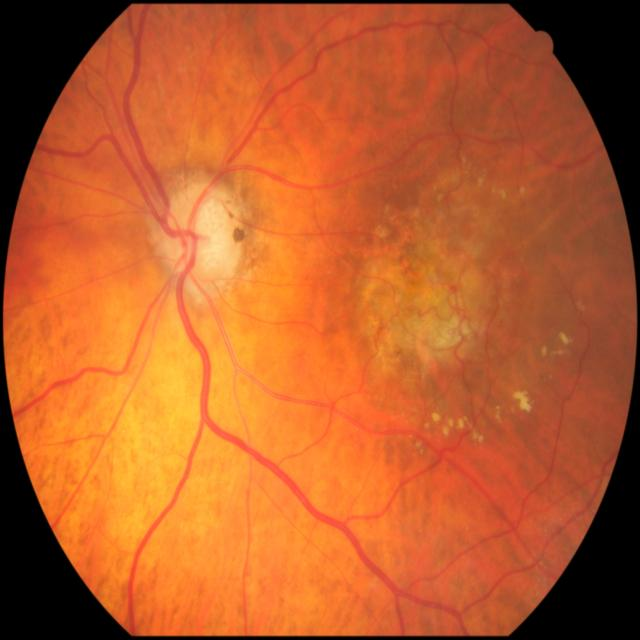OC: (192, 200, 228, 264)
OD: (153, 181, 240, 300)
